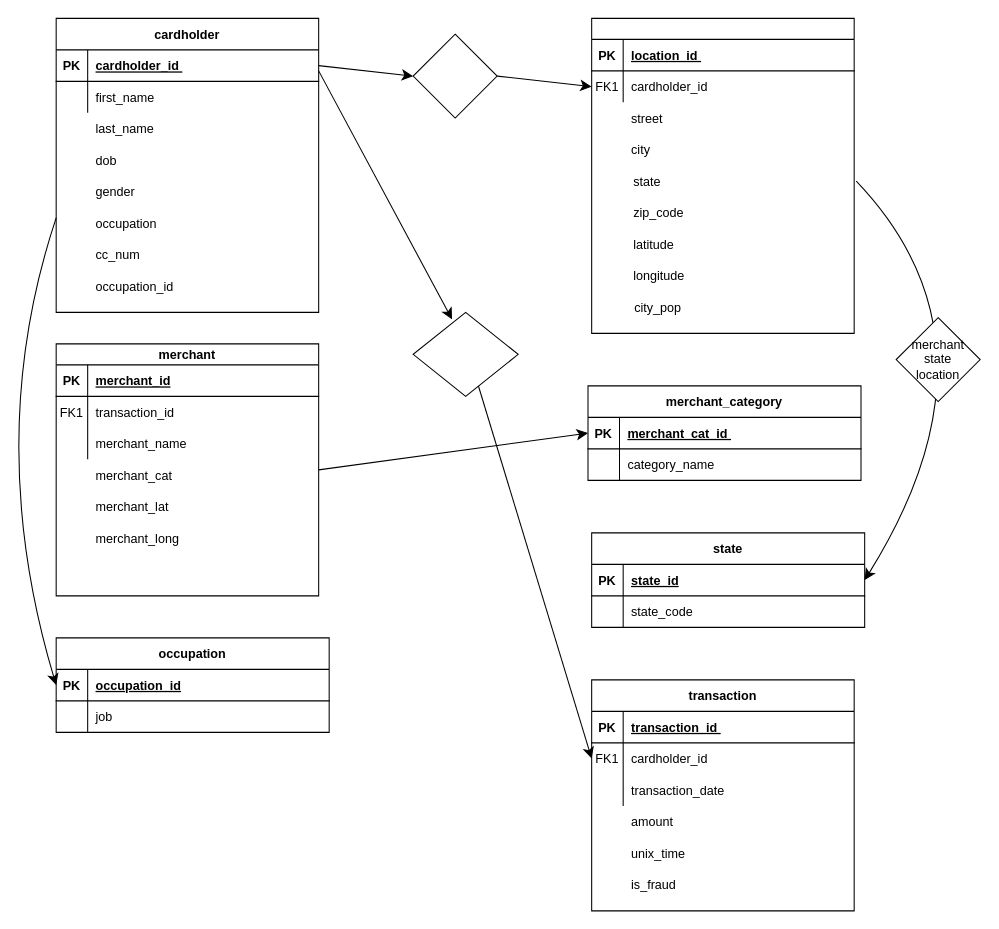
Some shapes in this 999 by 929 pixel diagram are drawn without their labels. The shapes that lost their labels are listed below. From the top down, each one's box as (x1, y1, x2, y2) in pixels, then its label:
(412, 33, 497, 118): cardholder location
(591, 17, 854, 333): cardholder_location
(412, 311, 518, 396): cardholder transaction
